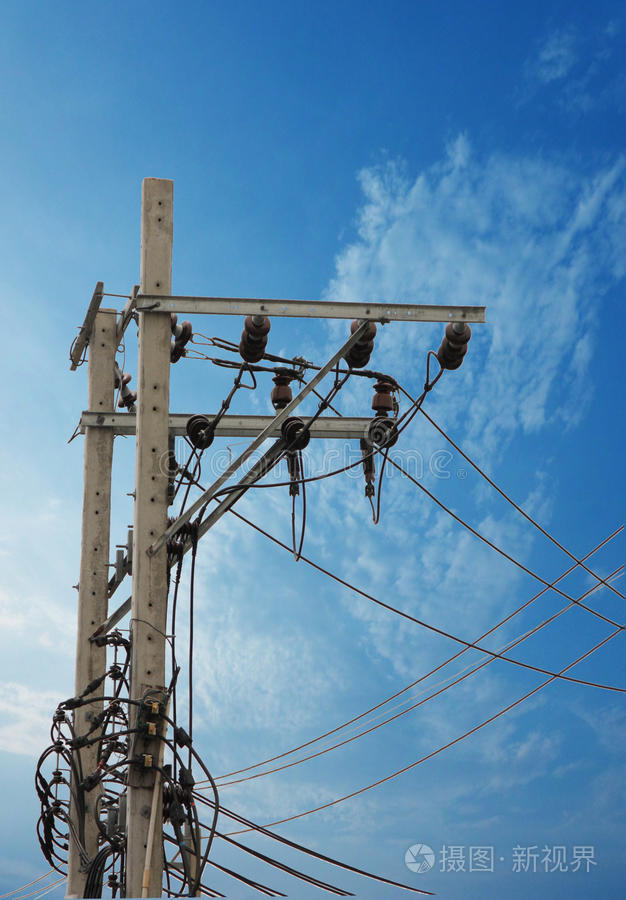insulator: (435, 323, 472, 375), (343, 319, 375, 371), (238, 311, 270, 359), (113, 369, 139, 414)
